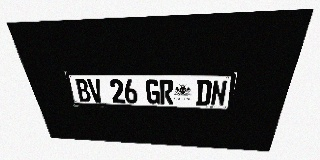2: (109, 79, 125, 103)
6: (123, 79, 138, 103)
B: (74, 79, 92, 102)
D: (196, 80, 212, 106)
G: (145, 79, 160, 104)
N: (210, 80, 228, 106)
R: (159, 80, 173, 105)
V: (87, 79, 104, 102)
